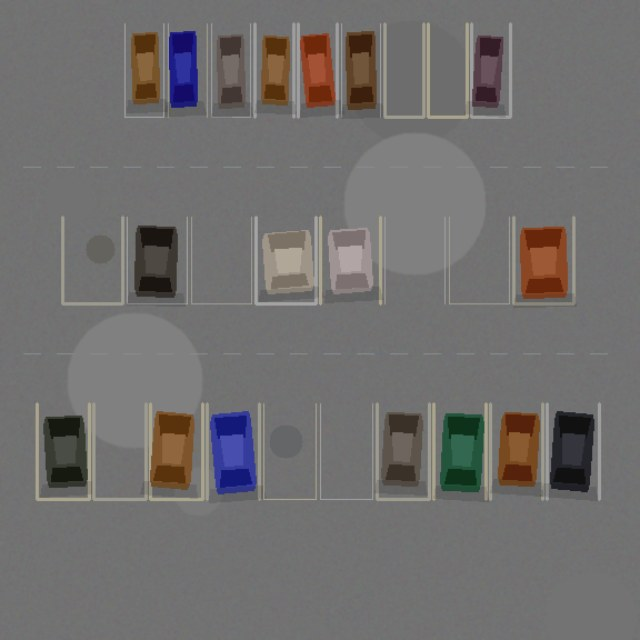space-empty: (62, 217, 122, 303), (191, 217, 251, 303), (384, 217, 444, 303), (449, 217, 509, 303), (93, 403, 146, 499), (263, 403, 316, 499), (320, 403, 372, 499), (384, 23, 423, 117), (428, 23, 467, 117)
space-occupied: (127, 217, 187, 303), (256, 217, 316, 303), (320, 217, 380, 303), (513, 217, 573, 303), (433, 403, 486, 499), (37, 403, 89, 499), (150, 403, 202, 499), (207, 403, 259, 499), (377, 403, 429, 499), (490, 403, 542, 499), (547, 403, 599, 499), (124, 23, 163, 117), (168, 23, 207, 117), (211, 23, 250, 117), (254, 23, 293, 117), (298, 23, 337, 117), (341, 23, 380, 117), (471, 23, 510, 117)
